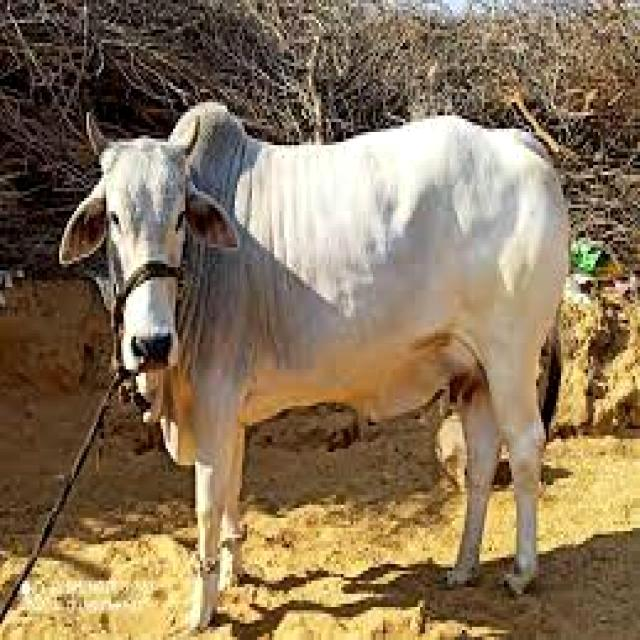COW: (60, 102, 568, 621)
